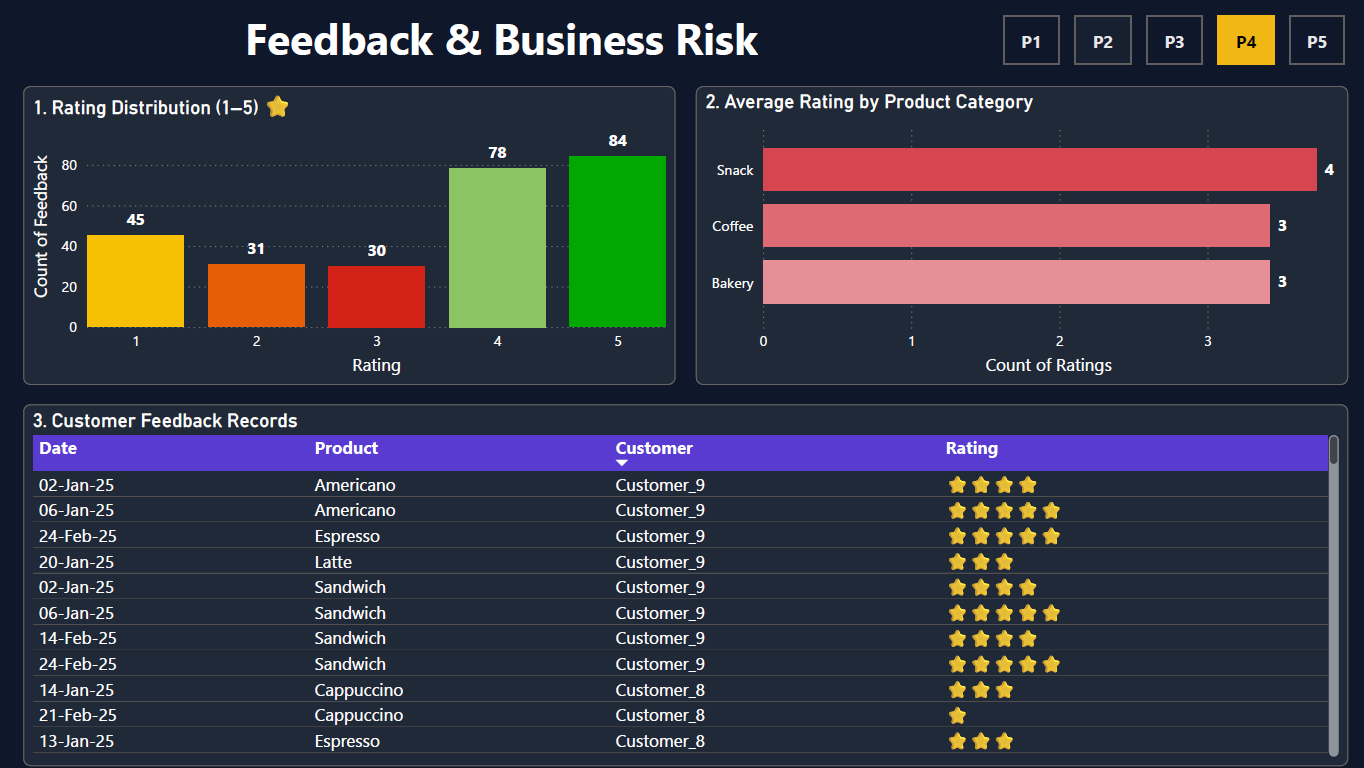

The page's visual inventory and layout, read from the dashboard file:
{"tool":"powerbi","page":{"name":"Page 4","canvas":[1280,720],"ordinal":3},"visuals":[{"type":"clusteredColumnChart","title":"1. Rating Distribution (1–5) ⭐ ","fields":{"Category":["orders.rating"],"Y":["MeasureTable.Rating Count"]},"box":[22.3,80.2,610.8,279.9],"z":0},{"type":"shape","box":[200,6.7,540,55],"z":1000},{"type":"clusteredBarChart","title":"2. Average Rating by Product Category","fields":{"Y":["MeasureTable.Average Rating by Product"],"Category":["products.category"]},"box":[652.2,80.2,610.8,279.9],"z":2000},{"type":"tableEx","title":"3. Customer Feedback Records","fields":{"Values":["orders.order_date","products.product_name","customers.customer_name","orders.Stars"]},"box":[21.7,378.3,1241.7,338.3],"z":3000},{"type":"group","id":"g1","title":"Group 2","box":[939.7,13.7,320,45],"z":4000},{"type":"actionButton","title":"P1","box":[1073.8,13.8,52.5,45.9],"z":9000,"group":"g1"},{"type":"actionButton","title":"P1","box":[1140.7,13.7,52.5,45.9],"z":10000,"group":"g1"},{"type":"actionButton","title":"P1","box":[1207.6,13.7,52.5,45.9],"z":11000,"group":"g1"},{"type":"actionButton","title":"P1","box":[1006.8,13.8,52.5,45.9],"z":12000,"group":"g1"},{"type":"actionButton","title":"P1","box":[939.7,13.8,52.5,45.9],"z":13000,"group":"g1"}]}

Visuals, with their boxes in screenshot pixels (x1, y1, x2, y2), scaled from the page's 1280x720 canvas onto the 1364x768 screenshot:
"1. Rating Distribution (1–5) ⭐ " clusteredColumnChart: 24,86,675,384
shape: 213,7,789,66
"2. Average Rating by Product Category" clusteredBarChart: 695,86,1346,384
"3. Customer Feedback Records" tableEx: 23,404,1346,764
"Group 2" group: 1001,15,1342,63
"P1" actionButton: 1144,15,1200,64
"P1" actionButton: 1216,15,1272,64
"P1" actionButton: 1287,15,1343,64
"P1" actionButton: 1073,15,1129,64
"P1" actionButton: 1001,15,1057,64
